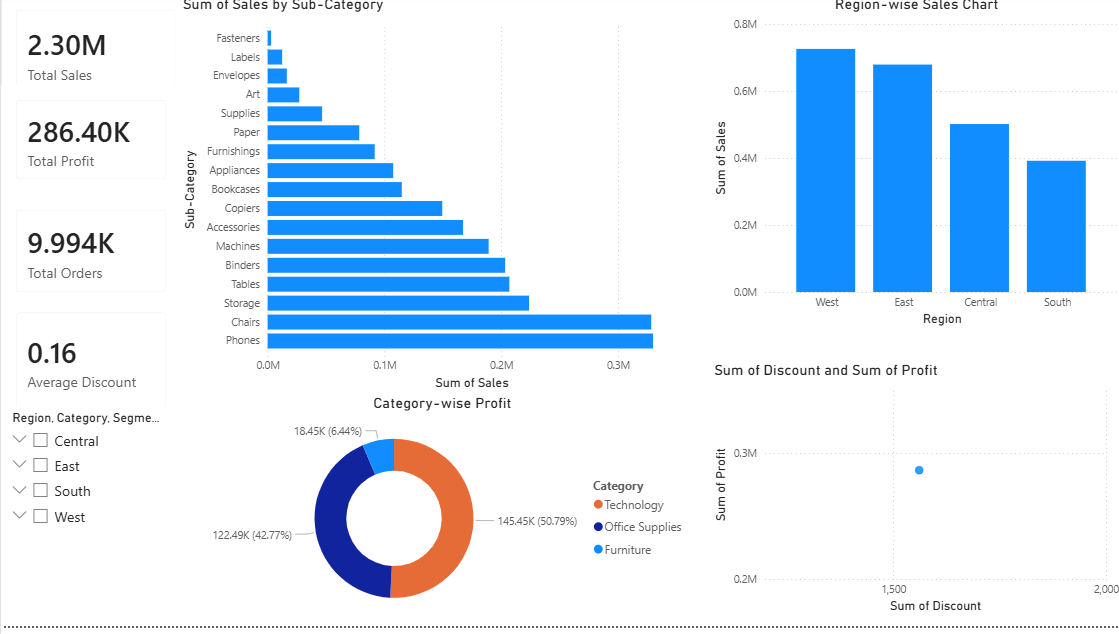

The page's visual inventory and layout, read from the dashboard file:
{"tool":"powerbi","page":{"name":"Executive Overview","canvas":[1280,720],"ordinal":0},"visuals":[{"type":"cardVisual","fields":{"Data":["Sum(retail_sales_final.Sales)"]},"box":[0,0,216.4,133.3],"z":0},{"type":"cardVisual","fields":{"Data":["Sum(retail_sales_final.Profit)"]},"box":[0,102.7,205.4,124.7],"z":1000},{"type":"cardVisual","fields":{"Data":["CountNonNull(retail_sales_final.Sales)"]},"box":[0,227.4,205.4,128.4],"z":2000},{"type":"cardVisual","fields":{"Data":["Avg(retail_sales_final.Discount)"]},"box":[0,344.8,205.4,144.3],"z":3000},{"type":"clusteredColumnChart","title":"Region-wise Sales Chart","fields":{"Y":["Sum(retail_sales_final.Sales)"],"Category":["retail_sales_final.Region"]},"box":[808.3,0,472,382.7],"z":4000},{"type":"donutChart","title":"Category-wise Profit","fields":{"Category":["retail_sales_final.Category"],"Y":["Sum(retail_sales_final.Profit)"]},"box":[216.4,454.9,573.5,265.4],"z":5000},{"type":"clusteredBarChart","fields":{"Y":["Sum(retail_sales_final.Sales)"],"Category":["retail_sales_final.Sub-Category"]},"box":[203,0,587,454.9],"z":6000},{"type":"scatterChart","fields":{"X":["Sum(retail_sales_final.Discount)"],"Y":["Sum(retail_sales_final.Profit)"]},"box":[808.3,417,472,292.3],"z":7000},{"type":"slicer","fields":{"Values":["retail_sales_final.Region","retail_sales_final.Category","retail_sales_final.Segment"]},"box":[0,469.6,205.4,250.7],"z":8000}]}

Visuals, with their boxes in screenshot pixels (x1, y1, x2, y2), scaled from the page's 1280x720 canvas onto the 1119x634 screenshot:
cardVisual - Sum(retail_sales_final.Sales): rect(0, 0, 189, 117)
cardVisual - Sum(retail_sales_final.Profit): rect(0, 90, 180, 200)
cardVisual - CountNonNull(retail_sales_final.Sales): rect(0, 200, 180, 313)
cardVisual - Avg(retail_sales_final.Discount): rect(0, 304, 180, 431)
"Region-wise Sales Chart" clusteredColumnChart: rect(707, 0, 1118, 337)
"Category-wise Profit" donutChart: rect(189, 401, 691, 633)
clusteredBarChart - Sum(retail_sales_final.Sales) x retail_sales_final.Sub-Category: rect(177, 0, 691, 401)
scatterChart - Sum(retail_sales_final.Discount) x Sum(retail_sales_final.Profit): rect(707, 367, 1118, 625)
slicer - retail_sales_final.Region x retail_sales_final.Category: rect(0, 414, 180, 633)
